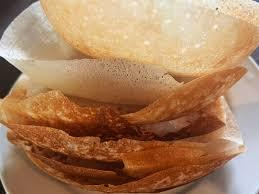Hoppers: (7, 2, 252, 192)
